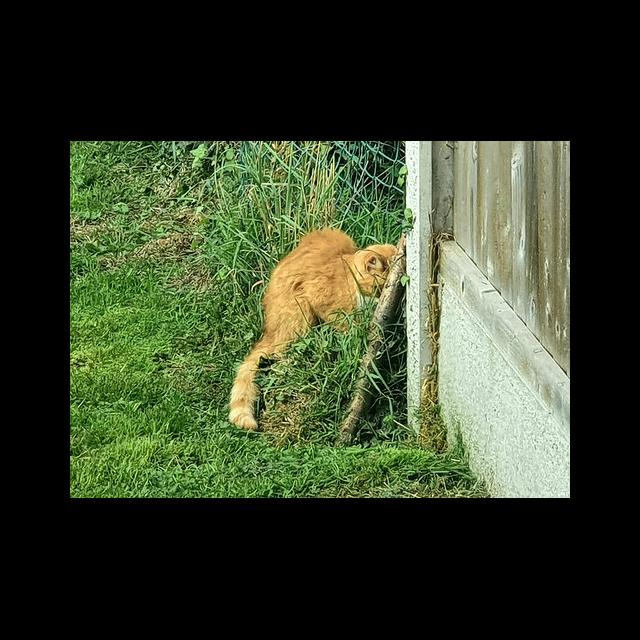animals: (225, 221, 400, 432)
